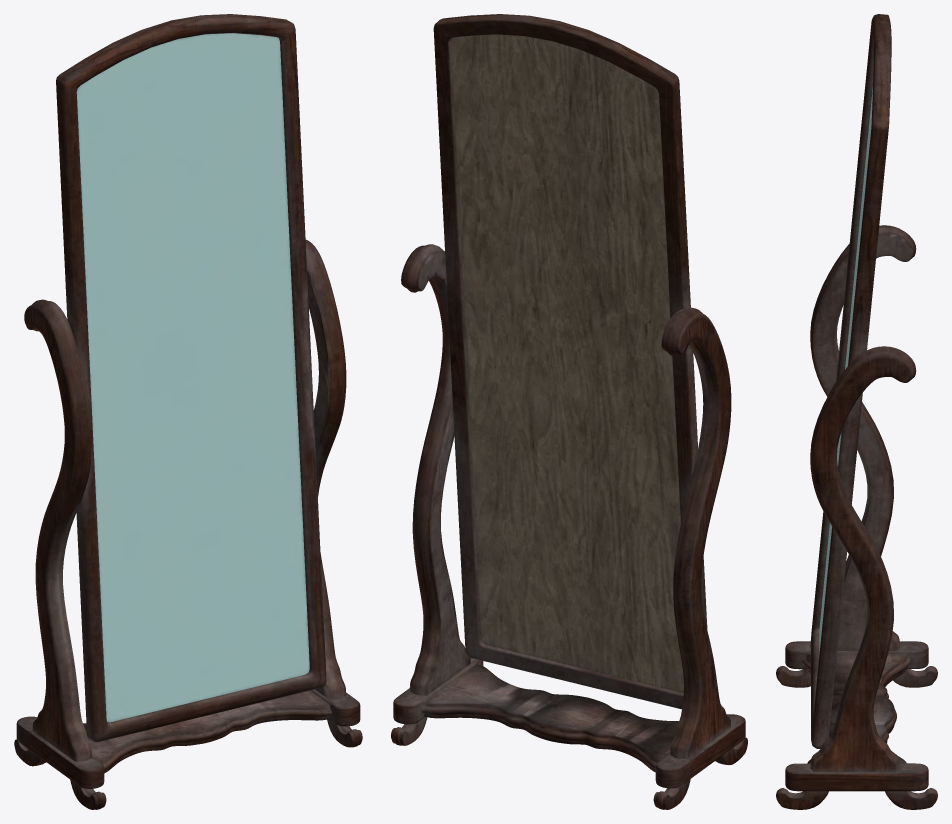
The model's file is mirror_a_dumokan_art.glb.
The picture shows the model from 3 angles, left to right: view 1: azimuth 30°, elevation 25°; view 2: azimuth 150°, elevation 25°; view 3: azimuth 270°, elevation 25°; orthographic projection. The views are drawn at different scales.
Parts seen in each view (by area): view 1: mirrorAMirror_mirrorA_Mat_0; view 2: mirrorAMirror_mirrorA_Mat_0; view 3: mirrorAMirror_mirrorA_Mat_0.
Boxes of the visible parts, bbox=[...] form: mirrorAMirror_mirrorA_Mat_0: bbox=[14, 14, 362, 809]; mirrorAMirror_mirrorA_Mat_0: bbox=[391, 14, 747, 809]; mirrorAMirror_mirrorA_Mat_0: bbox=[776, 14, 937, 809].
Bounding box in the file's own units: 0.7162 × 1.76 × 0.3677.
1 material, 1 textured.
